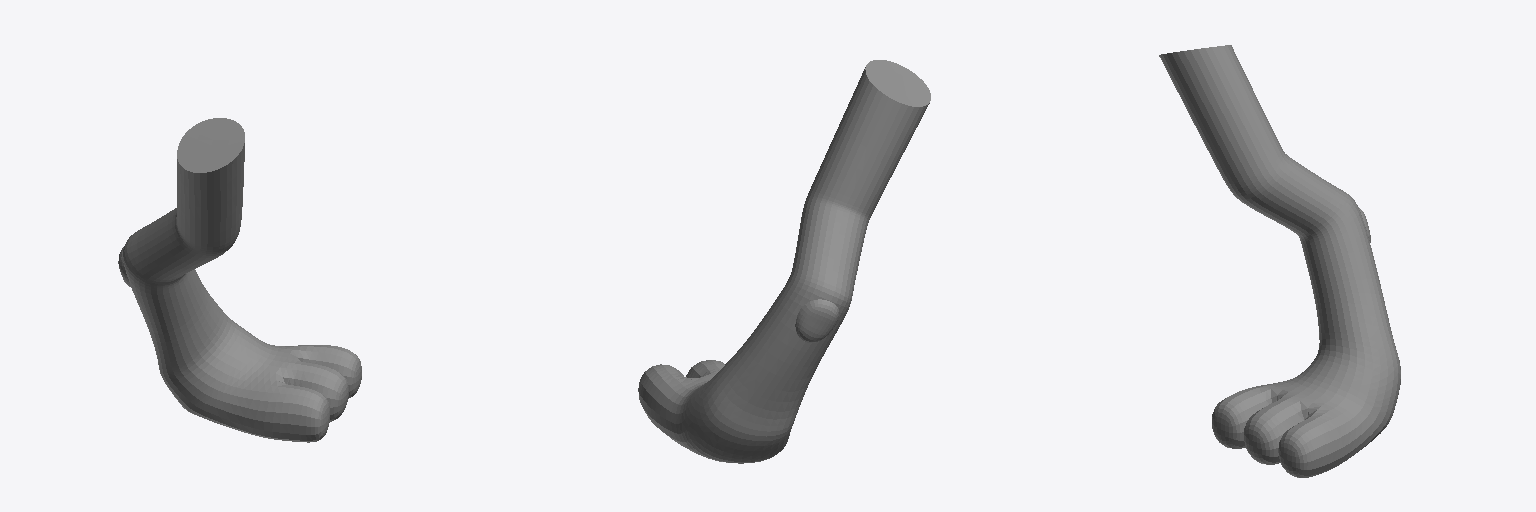
File: piernaIzq.obj
The picture shows the model from 3 angles: view 1: azimuth 30°, elevation 25°; view 2: azimuth 150°, elevation 25°; view 3: azimuth 270°, elevation 25°; orthographic projection.
Visible parts, largest first — view 1: piernaIzq; view 2: piernaIzq; view 3: piernaIzq.
Boxes of the visible parts, <box> form: piernaIzq: <box>118,118,361,442</box>; piernaIzq: <box>638,60,930,463</box>; piernaIzq: <box>1159,45,1400,477</box>.
Size of the model in its own units: 2.39 by 3.51 by 2.17.